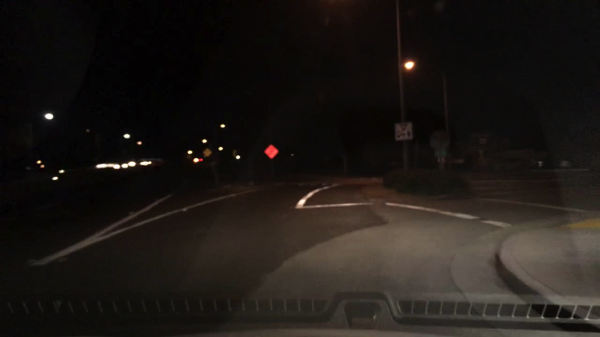car: (494, 157, 541, 172)
traffic sign: (394, 121, 412, 140), (469, 134, 486, 152), (431, 132, 449, 147), (262, 145, 279, 159), (203, 147, 212, 157), (435, 150, 446, 158)
